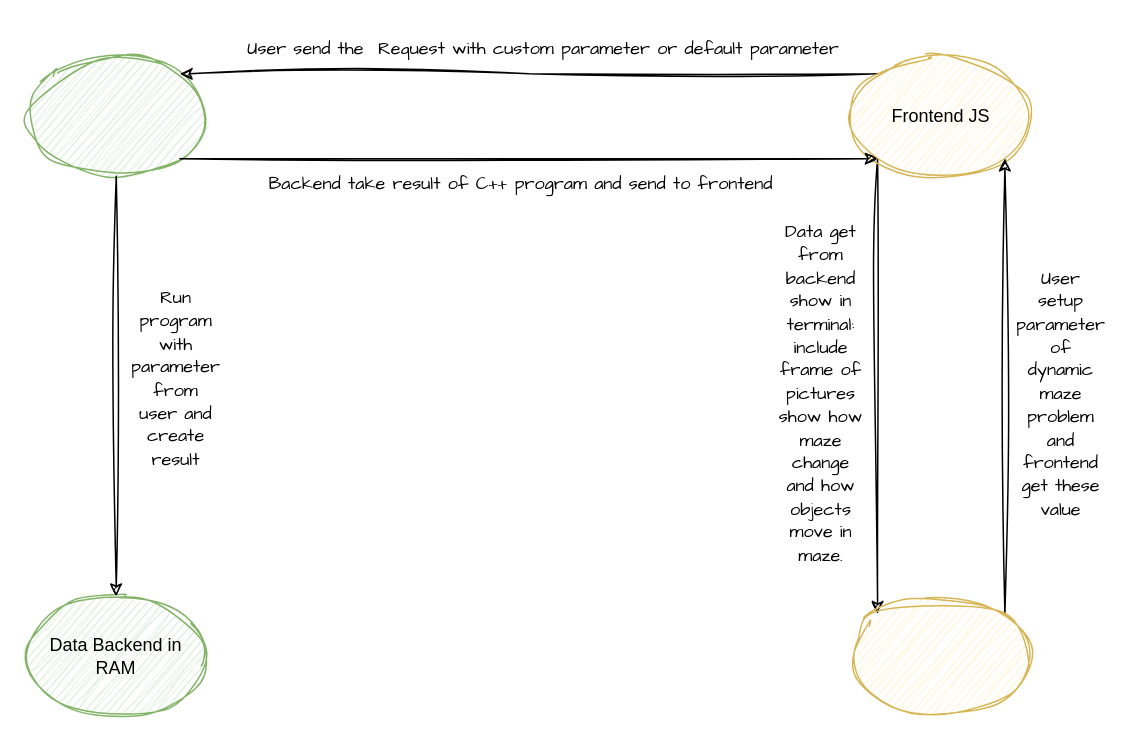
The diagram is 1133 pixels wide and 743 high, and some of its shapes have lost their labels. The shapes that lost their labels are listed below. From the top down, each one's box as (x1, y1, x2, y2) in pixels, then its label:
(25, 55, 206, 176): Backend C++
(850, 595, 1031, 716): Monitor of user
